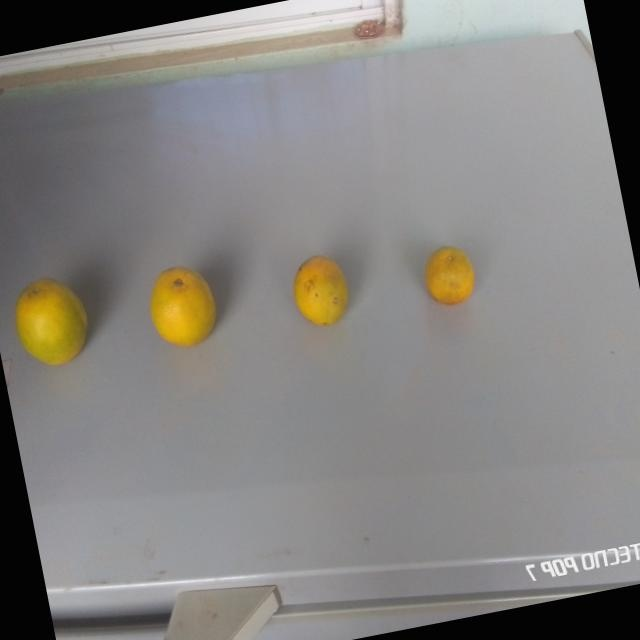agrume: (4, 260, 101, 379), (140, 253, 237, 363), (281, 248, 361, 336), (419, 238, 481, 318)
